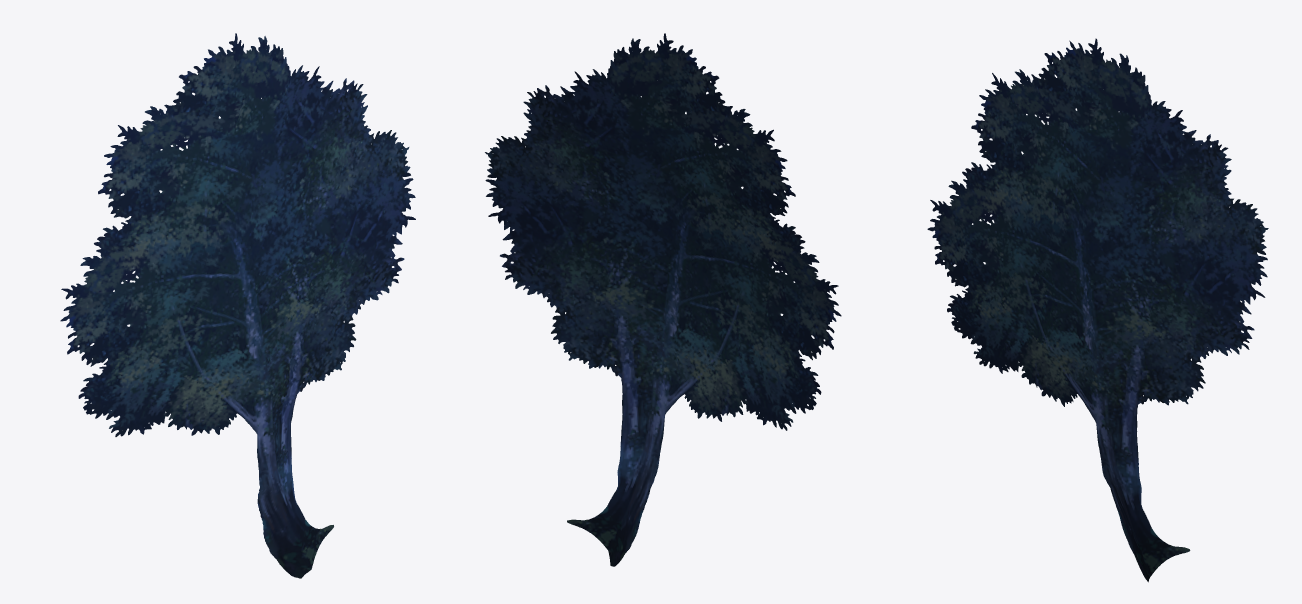
The model's file is HuBian_NightTree03_FBX.FBX.
3 views of the same model, side by side, from view 1: azimuth 30°, elevation 25°; view 2: azimuth 150°, elevation 25°; view 3: azimuth 330°, elevation 25° (orthographic). The views are drawn at different scales.
Parts seen in each view (by area): view 1: HuBian_NightTree03_FBX; view 2: HuBian_NightTree03_FBX; view 3: HuBian_NightTree03_FBX.
Part boxes in pixels (bbox=[...]): HuBian_NightTree03_FBX: bbox=[60, 33, 415, 578]; HuBian_NightTree03_FBX: bbox=[485, 33, 841, 566]; HuBian_NightTree03_FBX: bbox=[927, 38, 1268, 582].
Bounding box in the file's own units: 7.8 × 10.67 × 0.7446.
